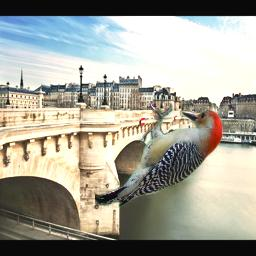Woodpecker: (95, 101, 225, 209)
